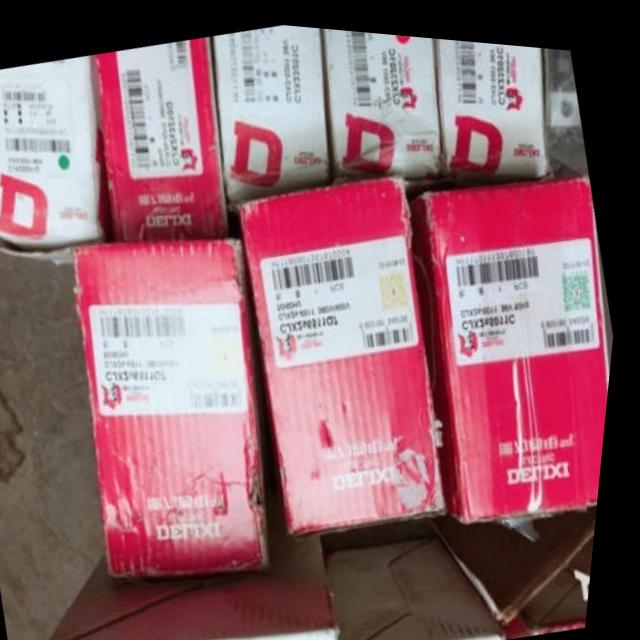box: (243, 175, 456, 527), (415, 167, 616, 511), (79, 236, 280, 574), (59, 495, 349, 640), (95, 32, 232, 237), (0, 55, 111, 263), (213, 20, 331, 200), (338, 528, 517, 640), (324, 23, 446, 172), (435, 30, 551, 167)
